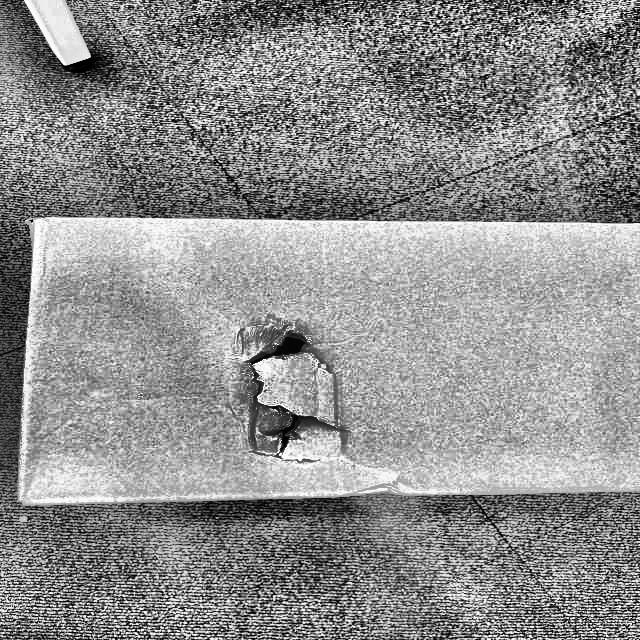box: (17, 209, 640, 522)
hole: (233, 325, 364, 465)
